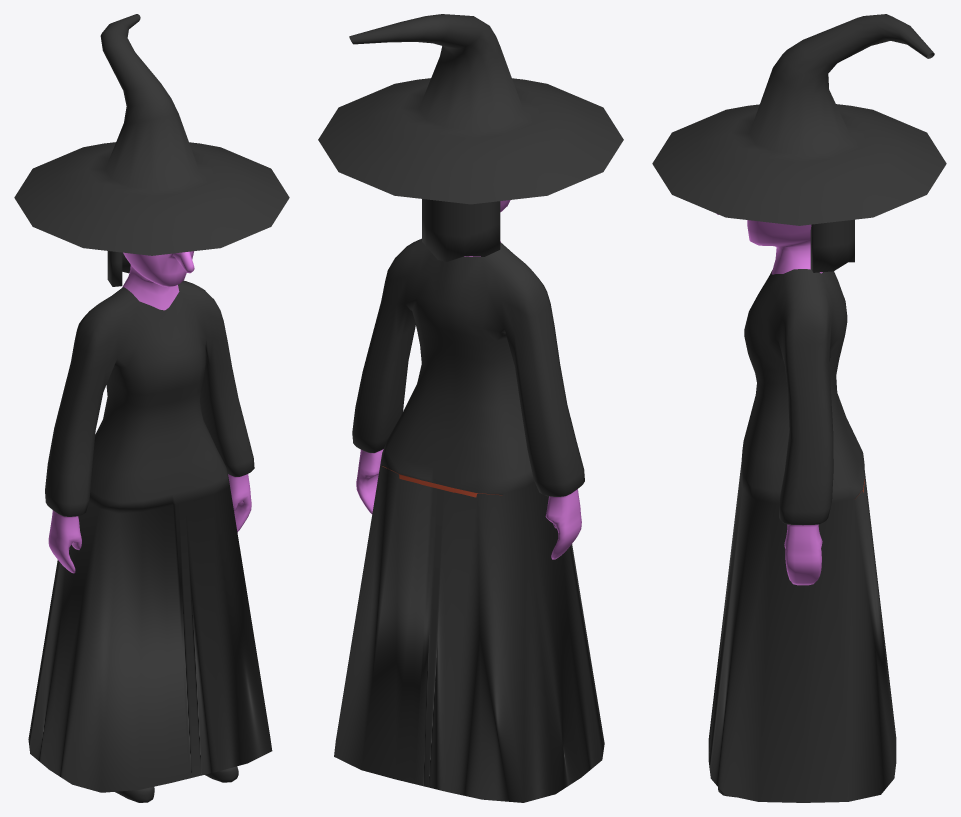
The model's file is Bruxa.fbx.
The picture shows the model from 3 angles, left to right: view 1: azimuth 30°, elevation 25°; view 2: azimuth 150°, elevation 25°; view 3: azimuth 270°, elevation 25°; orthographic projection. The views are drawn at different scales.
Parts seen in each view (by area): view 1: Bruxa; view 2: Bruxa; view 3: Bruxa.
Part boxes in pixels (bbox=[...]): Bruxa: bbox=[14, 14, 289, 802]; Bruxa: bbox=[318, 14, 623, 802]; Bruxa: bbox=[652, 14, 946, 802].
Size of the model in its own units: 137 by 389 by 137.
